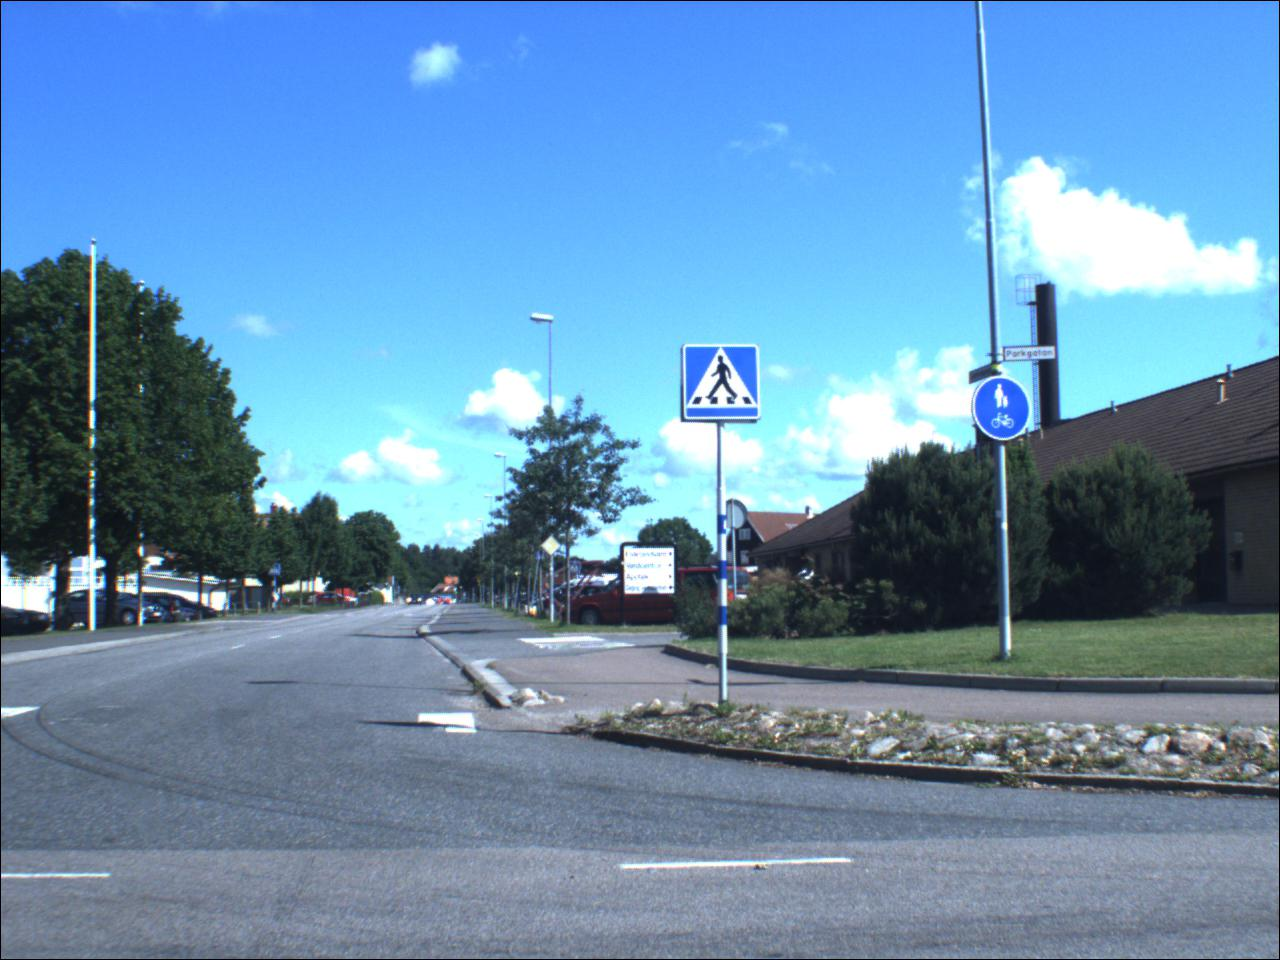PEDESTRIAN_CROSSING: (687, 347, 760, 422), (271, 565, 284, 580)
PRIORITY_ROAD: (546, 535, 565, 558)
